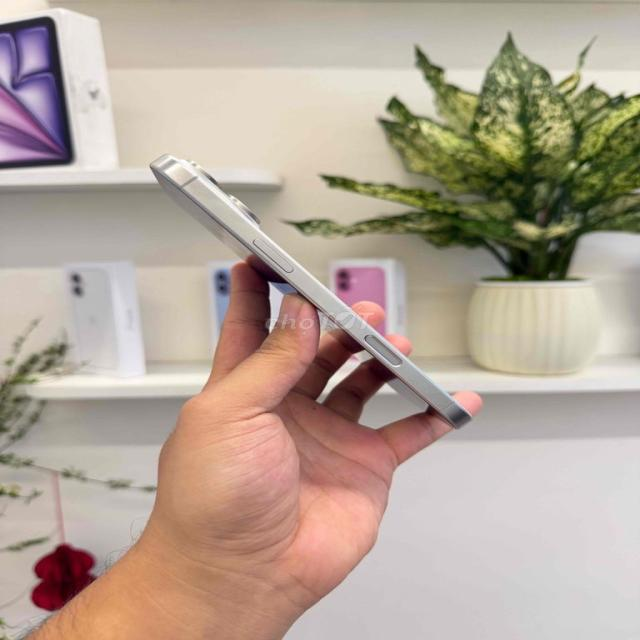gen_16: (144, 131, 478, 430)
